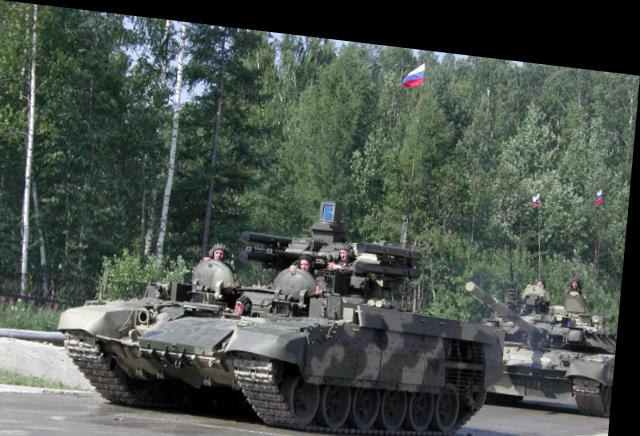other: (187, 212, 243, 279), (560, 244, 597, 315), (513, 253, 559, 307), (278, 238, 321, 293), (332, 226, 358, 265)
tank: (60, 225, 512, 434), (498, 254, 621, 411)
